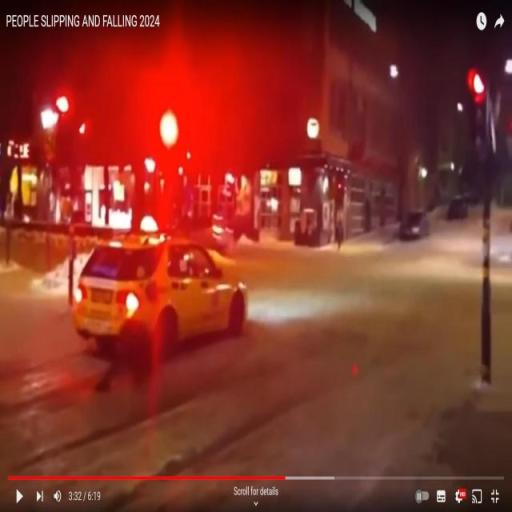Fall: (81, 311, 153, 396)
